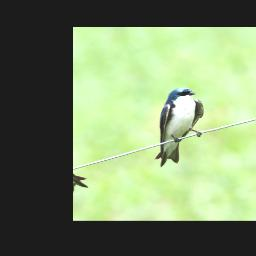Swallow: (127, 83, 225, 169)
